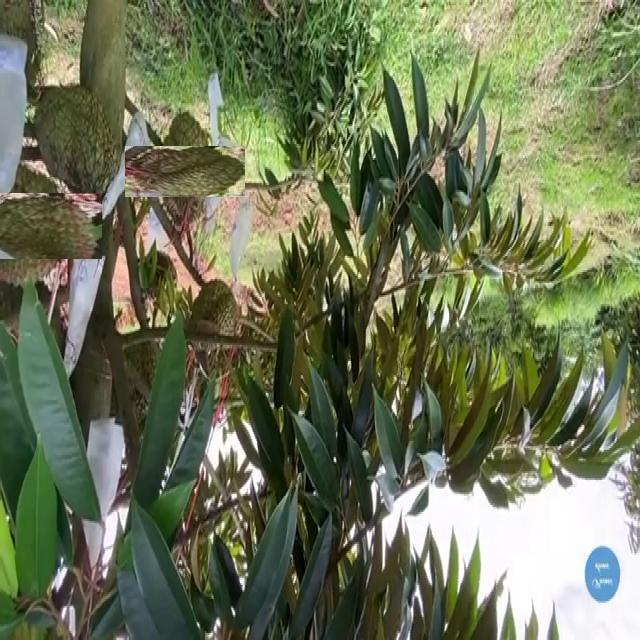durian: (32, 80, 122, 214), (0, 176, 85, 276), (142, 128, 228, 214), (182, 276, 247, 378)
